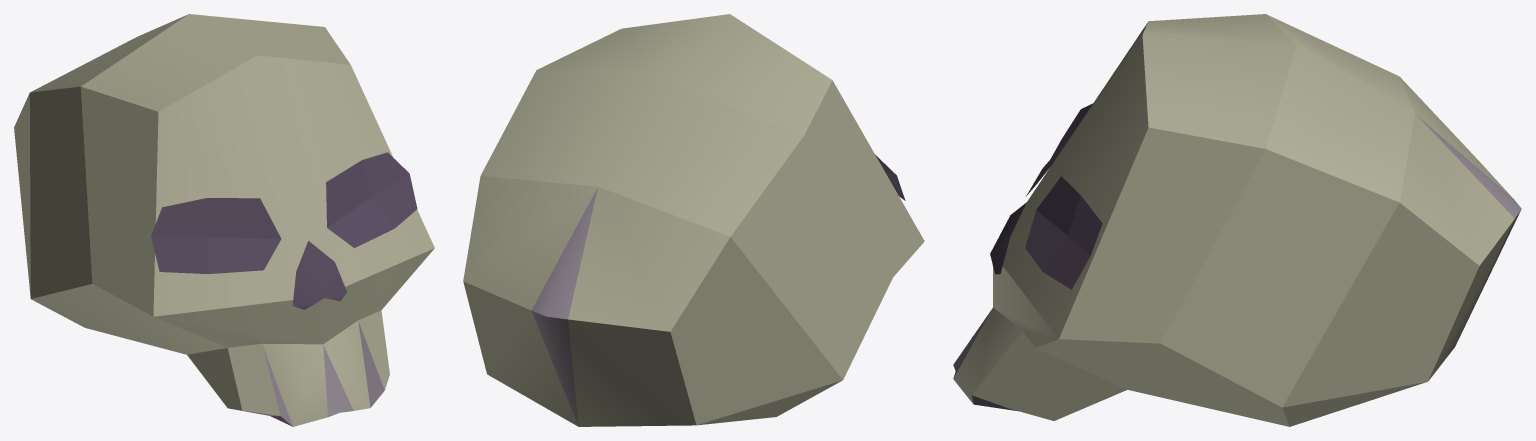
Rendered from skelly-head.fbx.
3 views of the same model, side by side, from view 1: azimuth 30°, elevation 25°; view 2: azimuth 150°, elevation 25°; view 3: azimuth 270°, elevation 25° (orthographic). The views are drawn at different scales.
Parts seen in each view (by area): view 1: skelly-head; view 2: skelly-head; view 3: skelly-head.
Part boxes in pixels (x1,y1,x2,y2): skelly-head: (14, 14, 434, 426); skelly-head: (463, 14, 924, 426); skelly-head: (953, 14, 1521, 426).
Size of the model in its own units: 47.58 by 43.84 by 62.71.
